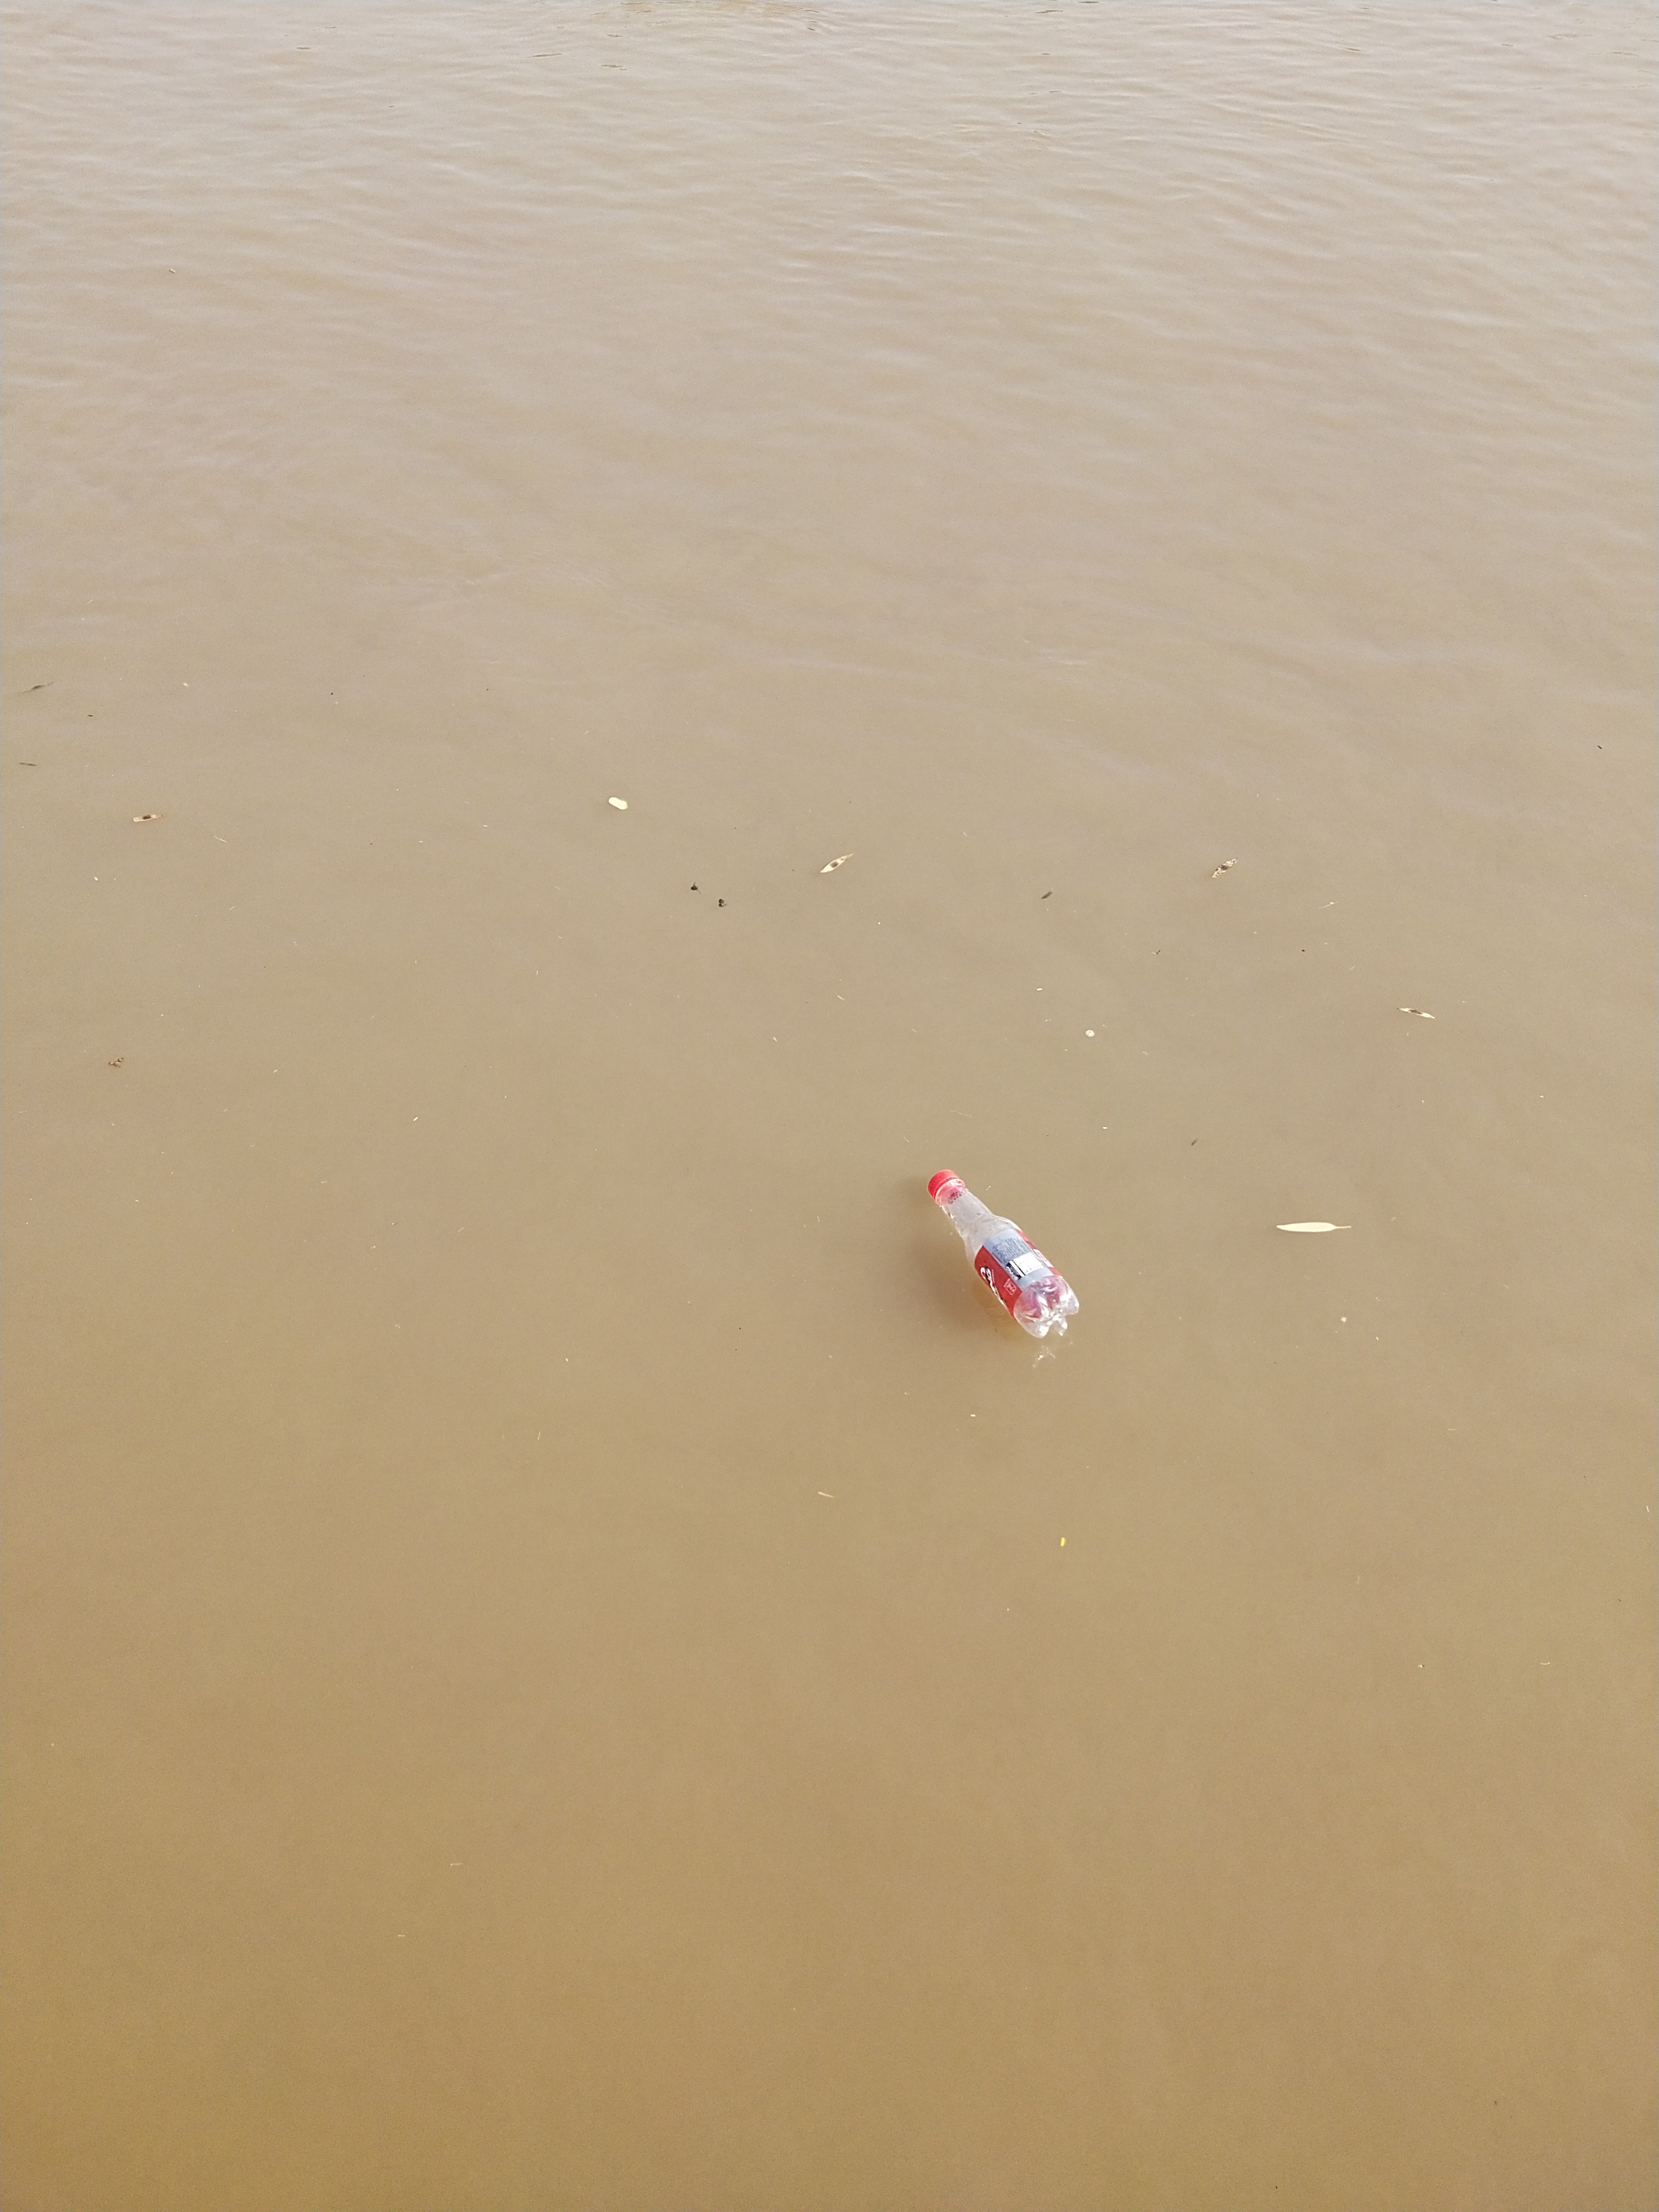Plastic Bottle: (927, 1167, 1079, 1338)
